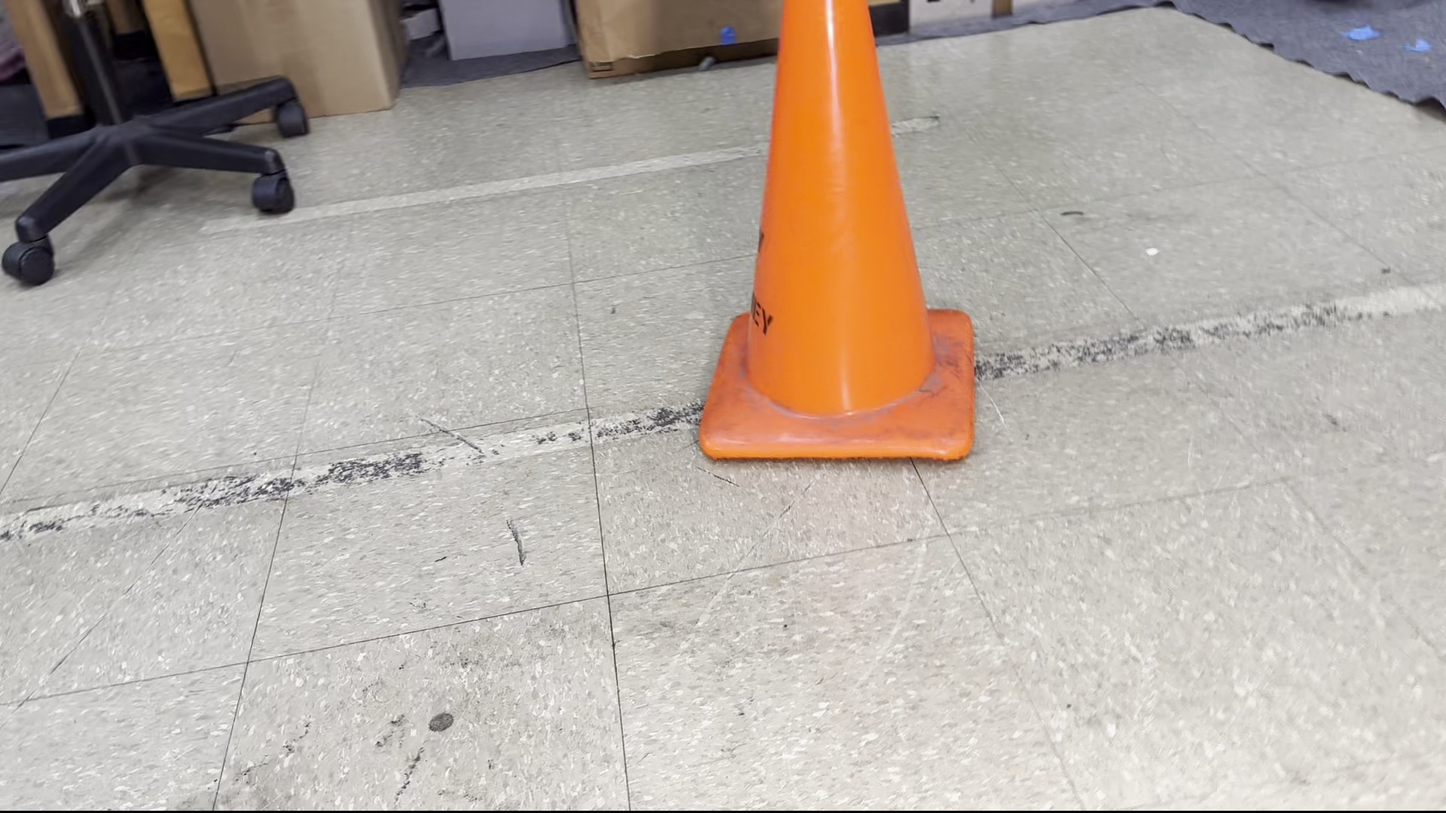traffic_cone: (697, 0, 976, 463)
